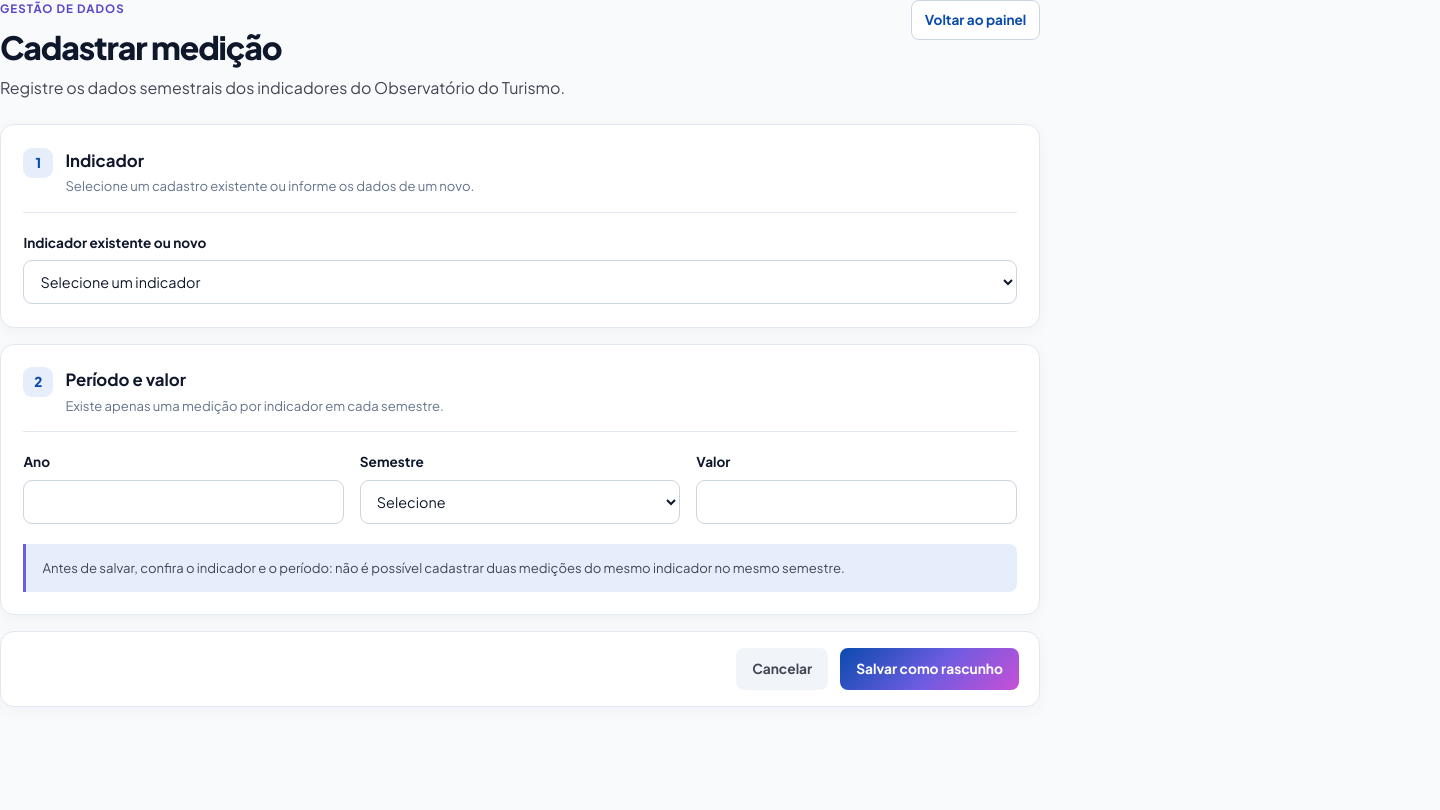
Test case: AdminMedicaoFormPage › pede os dados obrigatórios antes de criar um indicador novo
The width and height of the screenshot is (1440, 810).
Expected: the heading "Cadastrar medição" is shown, top-left (0, 27), bottom-right (282, 67)
Select "Cadastrar novo indicador" in the dropdown labelled "Indicador": (520, 282) top-left (23, 260), bottom-right (1017, 304)
(page scrolled)
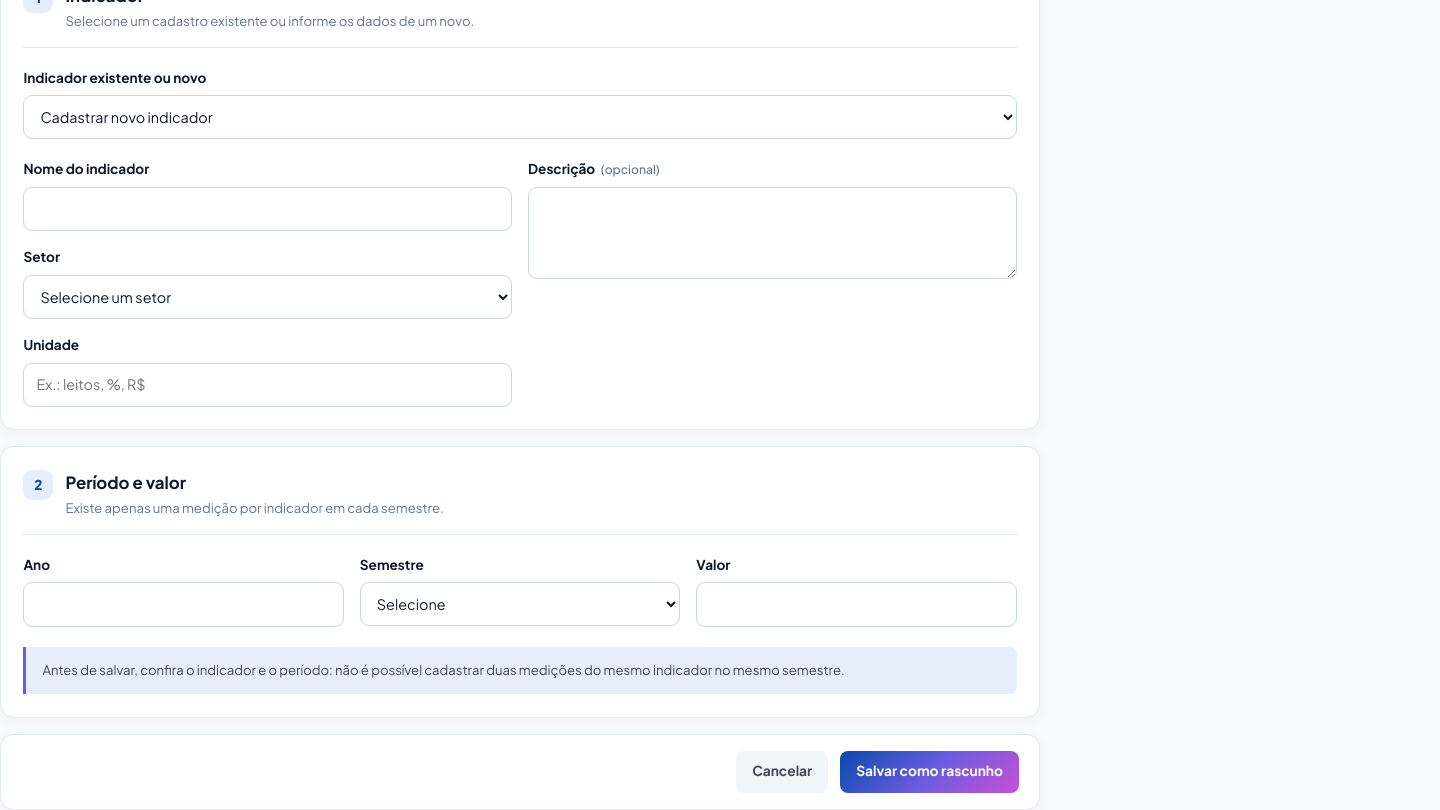
Click the button "Salvar como rascunho": (930, 772) top-left (840, 751), bottom-right (1019, 793)
(page scrolled)
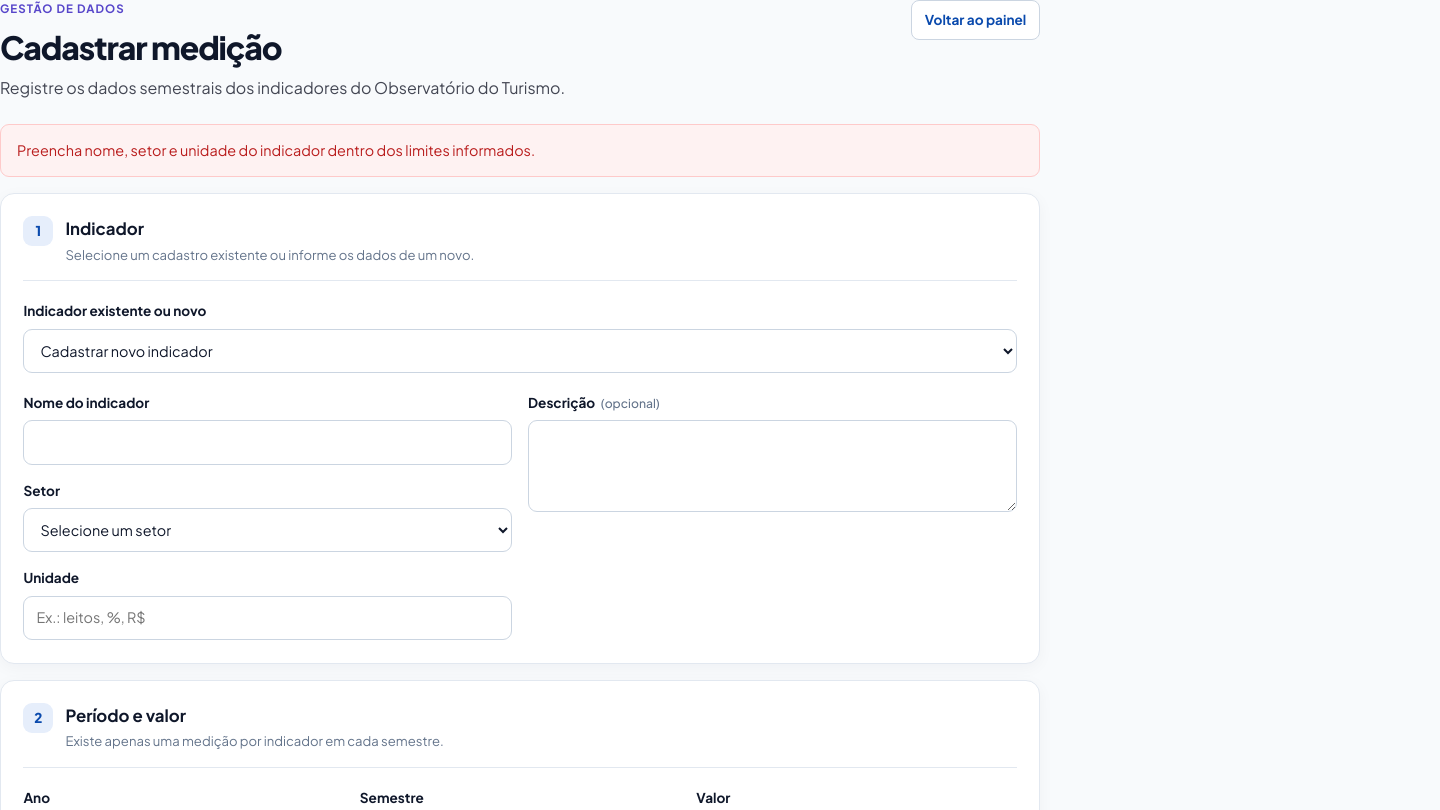
Expected: the message shows "Preencha nome, setor e unidade", top-left (17, 141), bottom-right (535, 159)
